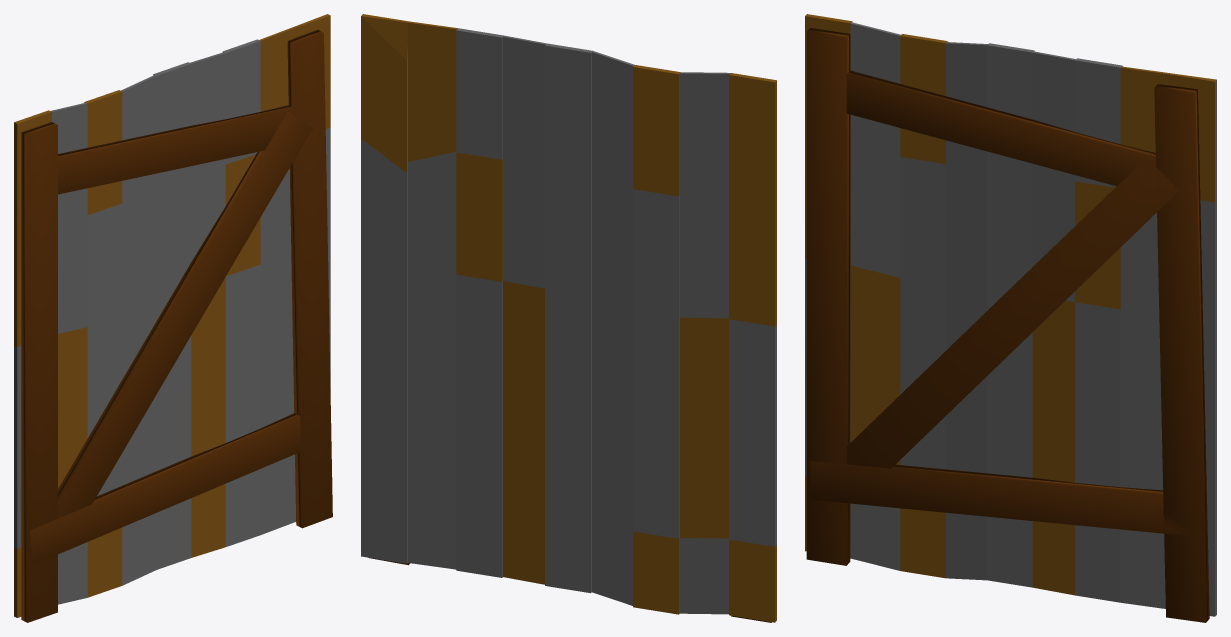
Rendered from Rusty Fence 1.fbx.
3 views of the same model, side by side, from view 1: azimuth 30°, elevation 25°; view 2: azimuth 150°, elevation 25°; view 3: azimuth 330°, elevation 25° (orthographic). The views are drawn at different scales.
Visible parts, largest first — view 1: Rusty Fence.001; view 2: Rusty Fence.001; view 3: Rusty Fence.001.
Boxes of the visible parts, box(x1,y1,x2,y2) form: Rusty Fence.001: box(14, 14, 332, 622); Rusty Fence.001: box(361, 14, 776, 622); Rusty Fence.001: box(805, 14, 1216, 622).
Bounding box in the file's own units: 231 × 318 × 45.57.
